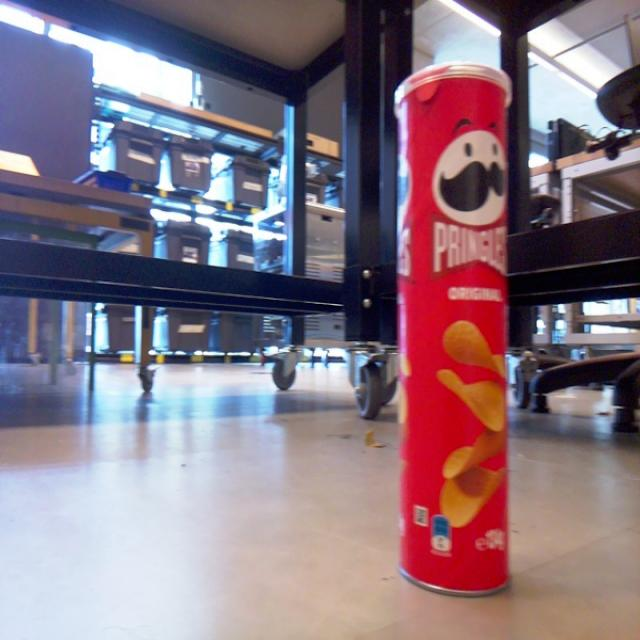redpringles: (362, 39, 553, 602)
